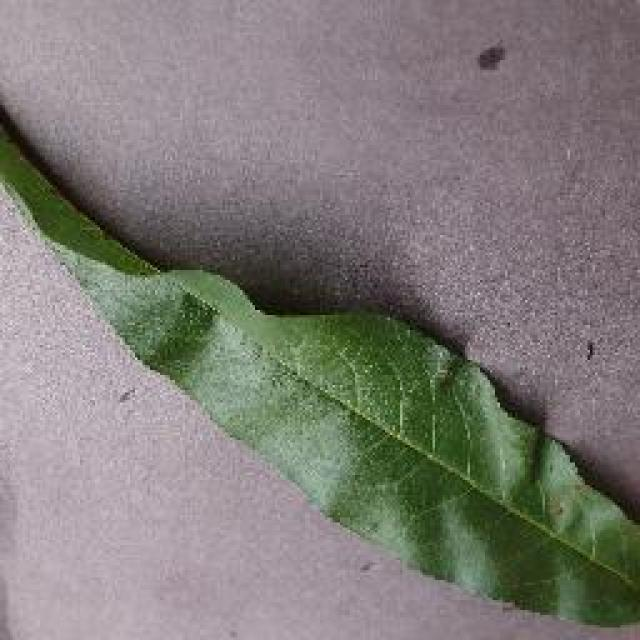Peach_Bacterial_Spot: (477, 449, 640, 632)
